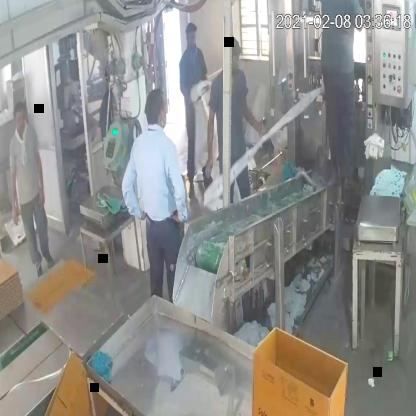no_glove: (165, 150, 192, 235), (115, 145, 142, 223), (233, 93, 268, 140), (202, 96, 220, 184), (8, 153, 26, 237), (31, 138, 46, 218)
